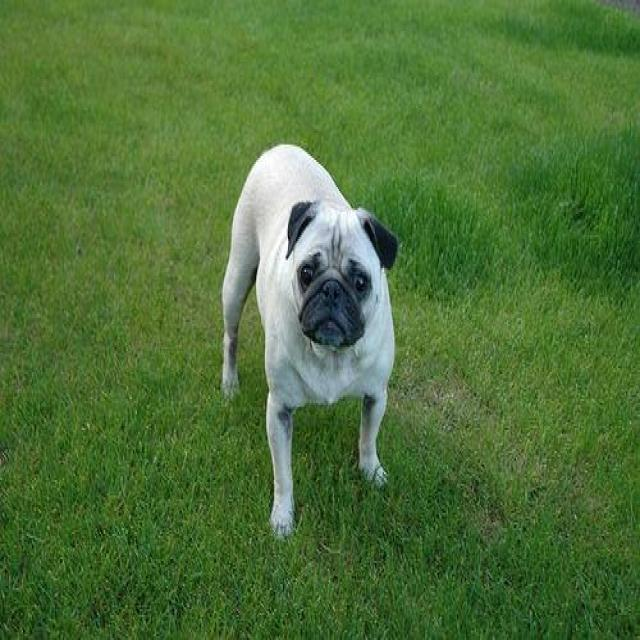good: (211, 134, 399, 538)
